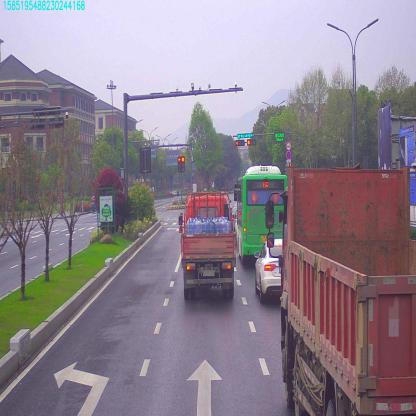traffic-light: (237, 130, 254, 140), (247, 139, 256, 146), (234, 141, 245, 145)
